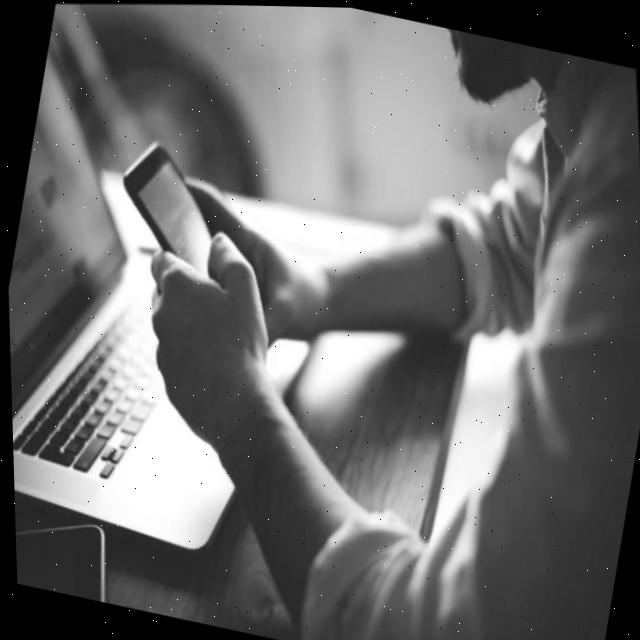phone: (95, 121, 243, 298)
